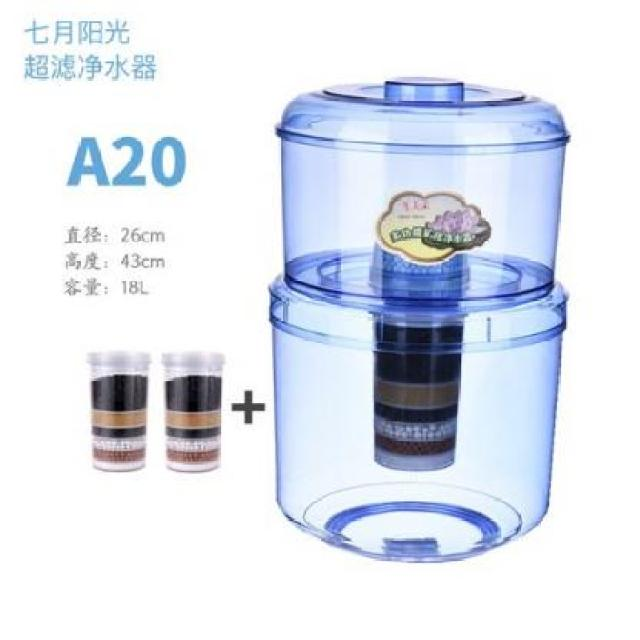coolerbottle: (262, 68, 578, 565)
